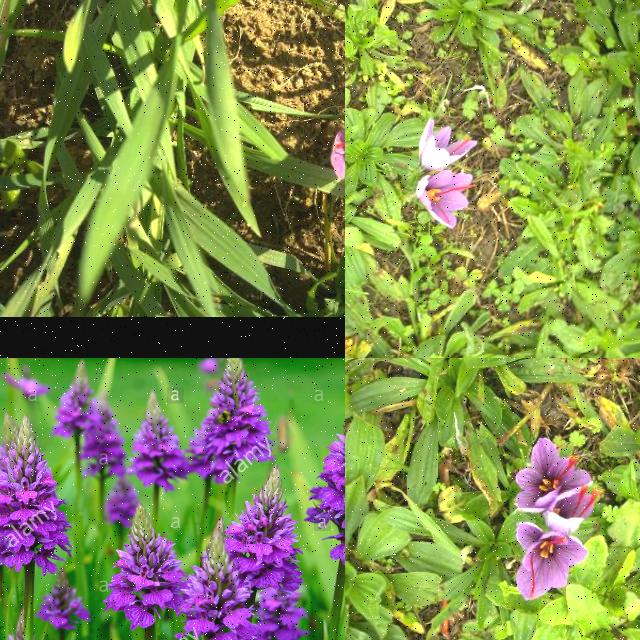flower: (516, 522, 586, 602), (416, 170, 476, 230), (420, 118, 478, 170)
overlap: (516, 437, 598, 537)
